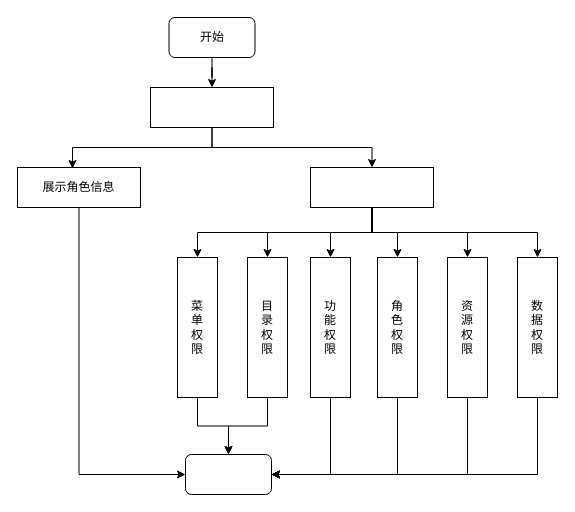
This 575x512 diagram has some shape labels left out. Here are the shapes that lost their labels. From the top down, the box of each, then its label:
(150, 86, 274, 128): 选择角色
(310, 166, 434, 208): 分配角色权限
(184, 454, 272, 494): 结束
